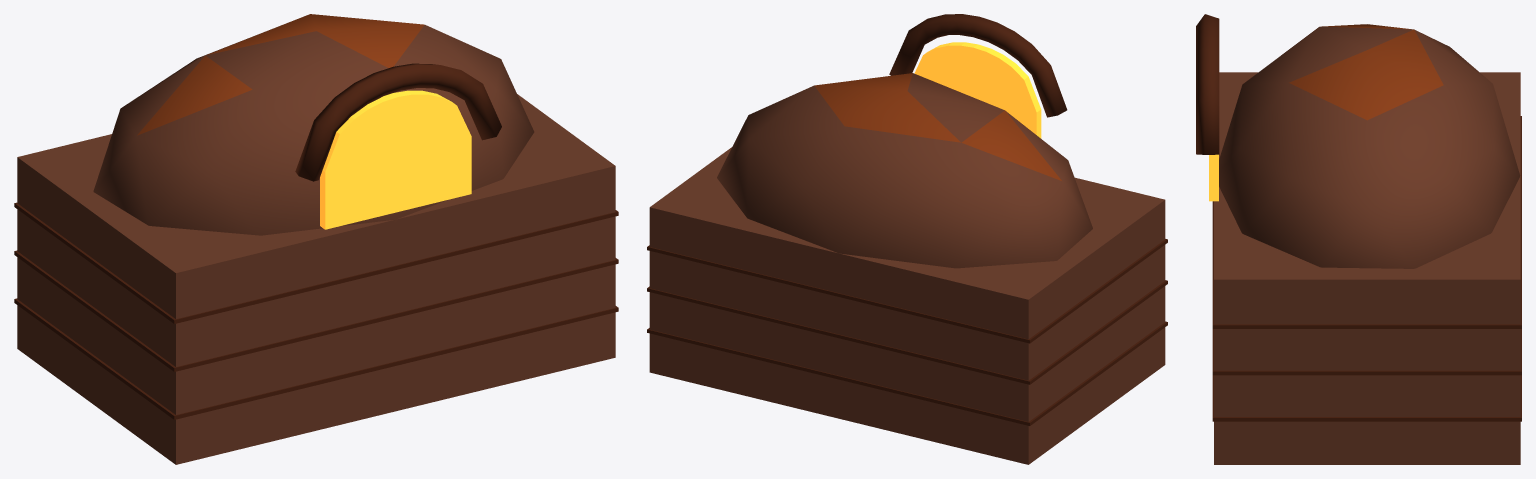
Rendered from oven_brick.glb.
The picture shows the model from 3 angles, left to right: view 1: azimuth 30°, elevation 25°; view 2: azimuth 150°, elevation 25°; view 3: azimuth 270°, elevation 25°; orthographic projection. The views are drawn at different scales.
Visible parts, largest first — view 1: oven_brick; view 2: oven_brick; view 3: oven_brick.
Boxes of the visible parts, x1=… form: oven_brick: x1=14, y1=14, x2=618, y2=464; oven_brick: x1=647, y1=14, x2=1167, y2=464; oven_brick: x1=1196, y1=14, x2=1521, y2=464.
Size of the model in its own units: 0.97 by 0.7238 by 0.6375.
